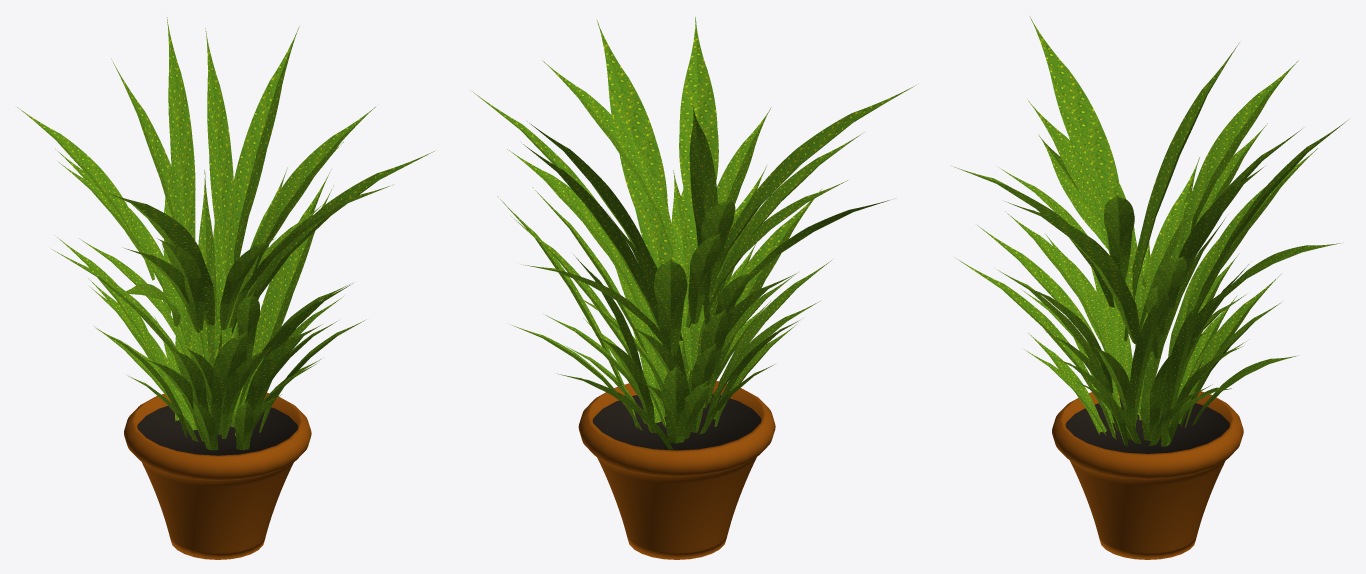
The model's file is plant1.dae.
3 renders of one model, left to right at view 1: azimuth 30°, elevation 25°; view 2: azimuth 150°, elevation 25°; view 3: azimuth 270°, elevation 25°, orthographic. The views are drawn at different scales.
Parts seen in each view (by area): view 1: Component_1 (×36), SketchUp (×2); view 2: Component_1 (×43), SketchUp (×4); view 3: Component_1 (×46), SketchUp (×2).
Boxes of the visible parts, bbox=[...] form: Component_1 (×36): bbox=[17, 17, 434, 438]; SketchUp (×2): bbox=[124, 393, 311, 559]; Component_1 (×43): bbox=[470, 17, 915, 449]; SketchUp (×4): bbox=[573, 254, 775, 559]; Component_1 (×46): bbox=[956, 16, 1346, 446]; SketchUp (×2): bbox=[1052, 391, 1242, 559].
Size of the model in its own units: 134 by 144 by 184.
Materials: 3 (1 with a texture image).
